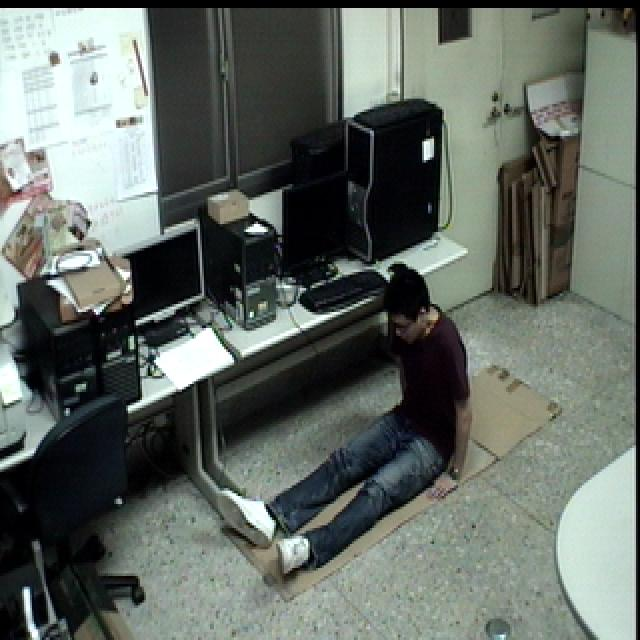sit: (203, 267, 475, 579)
